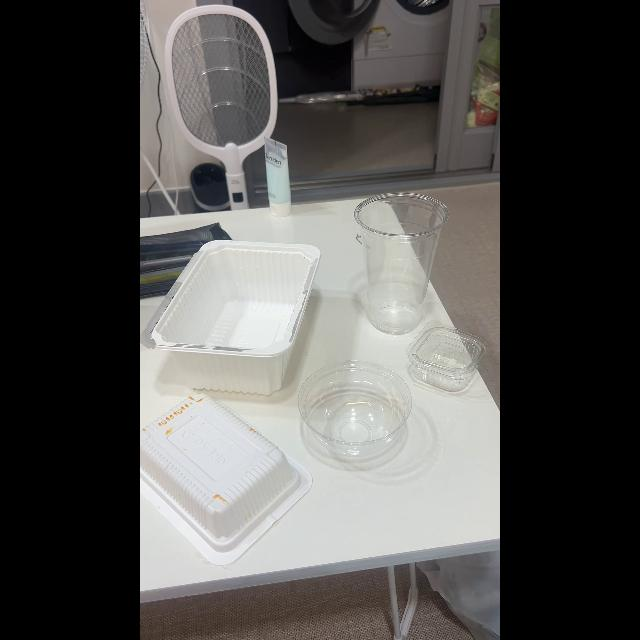clean: (150, 242, 316, 392), (302, 358, 414, 472), (356, 195, 426, 332), (418, 335, 488, 393)
dirty: (142, 396, 288, 544)
